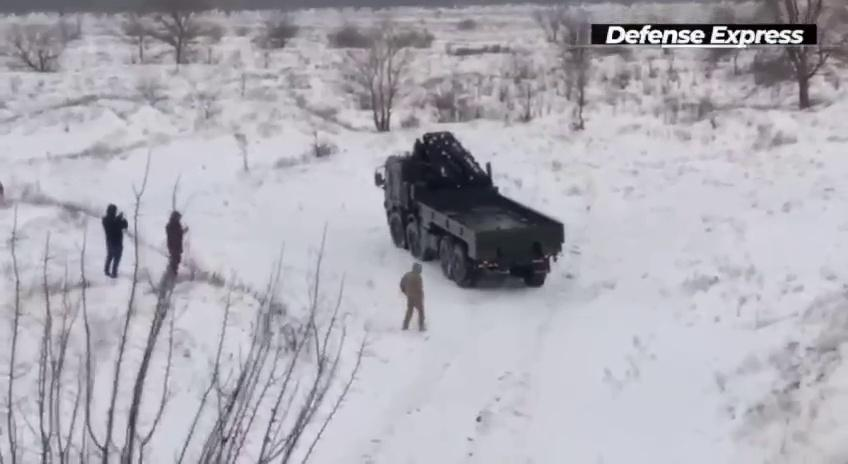person: (101, 203, 128, 278), (400, 262, 426, 332), (164, 211, 190, 279)
truck: (376, 131, 566, 290)
